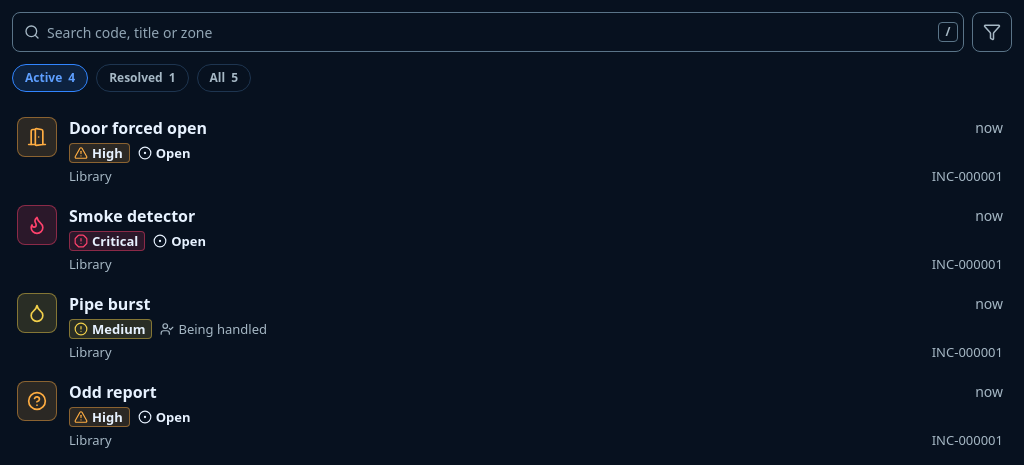
Test: IncidentFeed › category filter › lists a type this console does not know until a category is chosen
Expected: the text "Odd report" is shown, [69,381,157,403]
Click the button named "Filter by category": (992, 32) [972,12,1012,52]
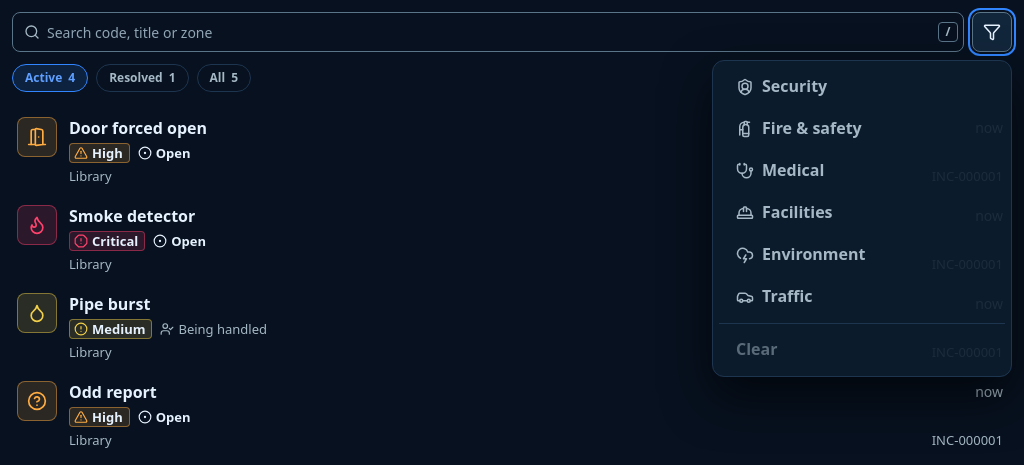
Click the button "Security": (795, 86) [719,67,1005,107]
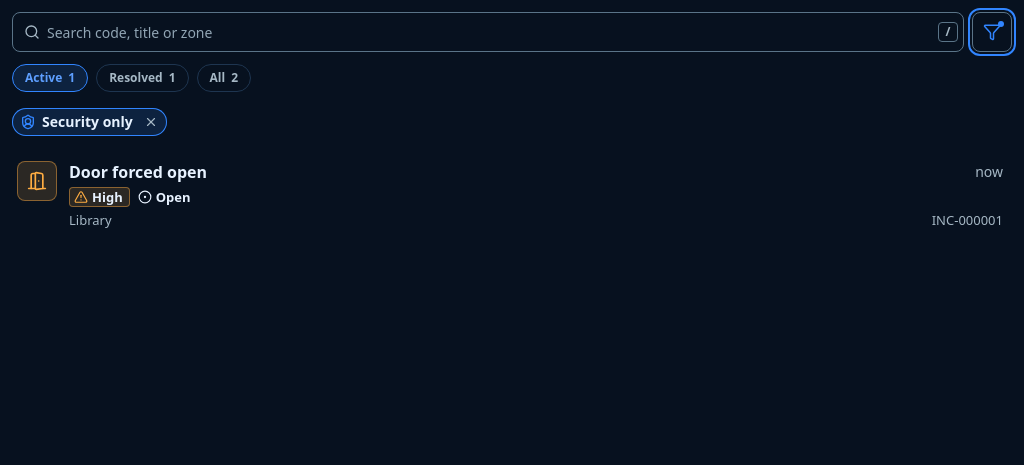
Now the button "Odd report" is gone
